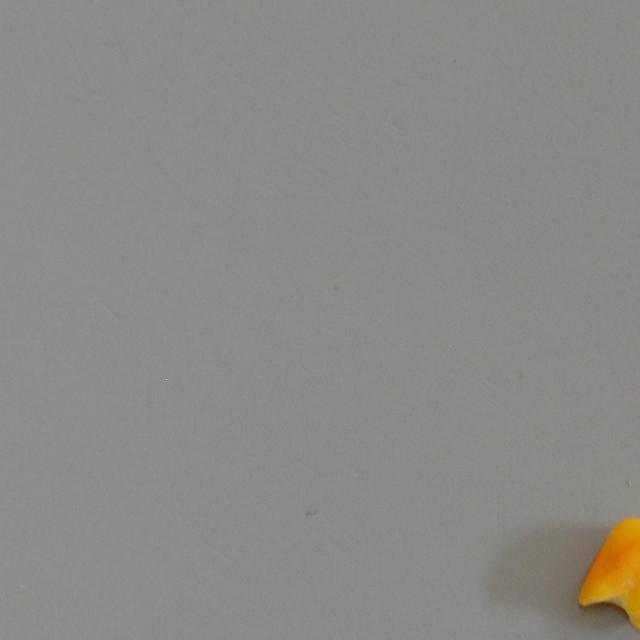dañado: (566, 501, 640, 640)
